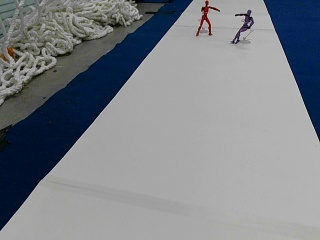pedestrian: (196, 1, 220, 36), (232, 8, 253, 42)
